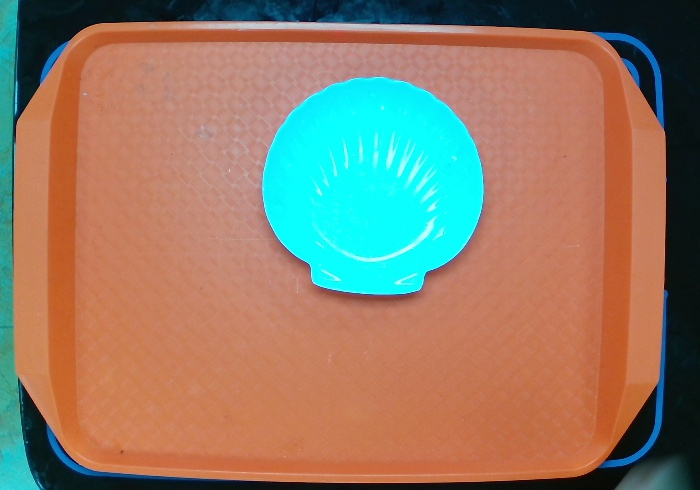RJxy-Bei_Ke_Wan: (259, 66, 494, 304)
